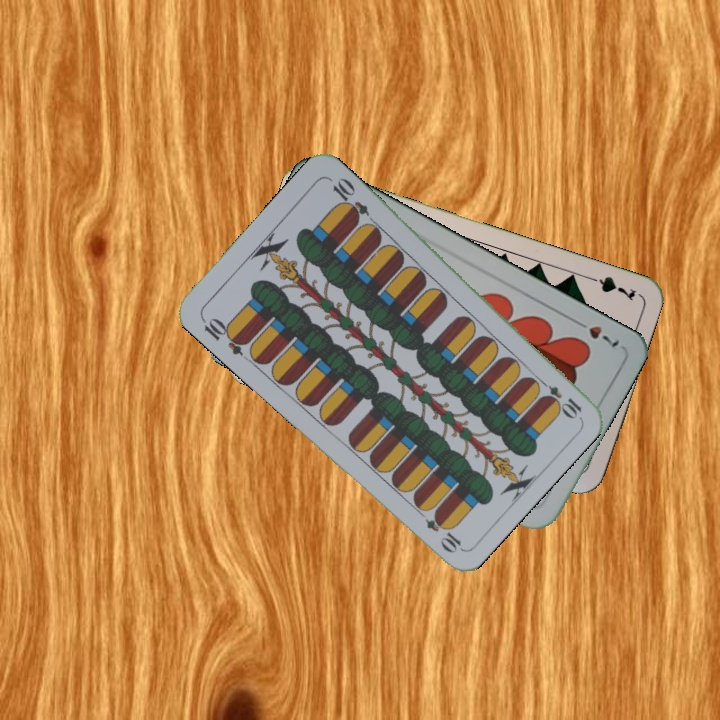E10: (197, 313, 251, 358), (533, 374, 585, 420)
G7: (581, 271, 638, 304)
H7: (569, 315, 622, 350)
